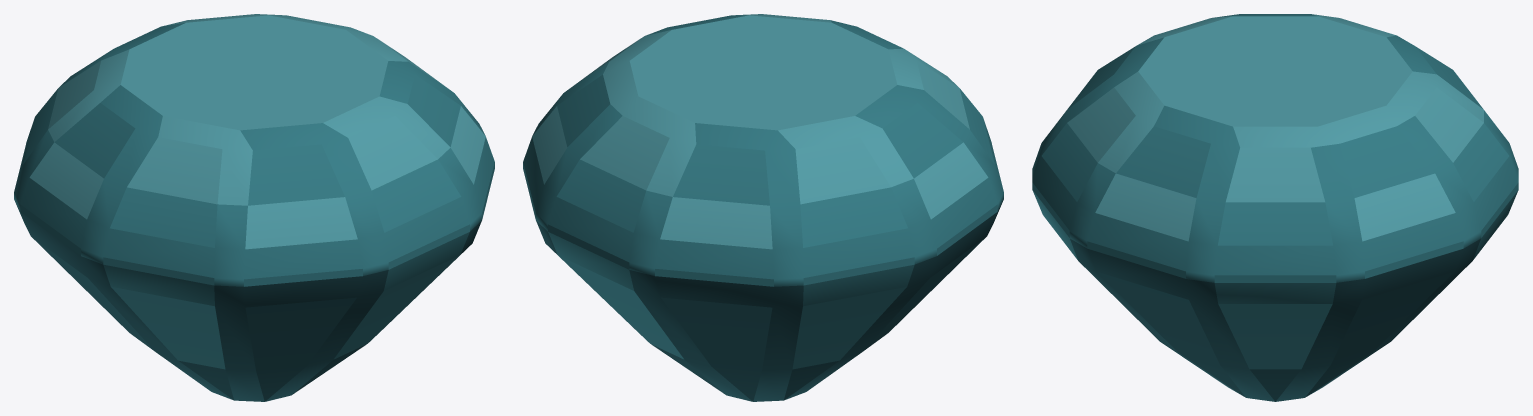
The model's file is Gem_22.glb.
3 views of the same model, side by side, from view 1: azimuth 30°, elevation 25°; view 2: azimuth 150°, elevation 25°; view 3: azimuth 270°, elevation 25° (orthographic).
Visible parts, largest first — view 1: Gem_22; view 2: Gem_22; view 3: Gem_22.
Boxes of the visible parts, bbox=[...] form: Gem_22: bbox=[14, 14, 494, 401]; Gem_22: bbox=[523, 14, 1003, 401]; Gem_22: bbox=[1032, 14, 1518, 401].
Bounding box in the file's own units: 0.8978 × 0.6495 × 0.9255.
